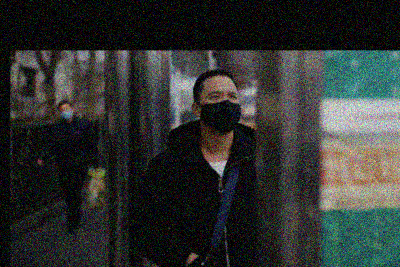with_mask: (201, 87, 242, 133), (60, 106, 74, 121)
